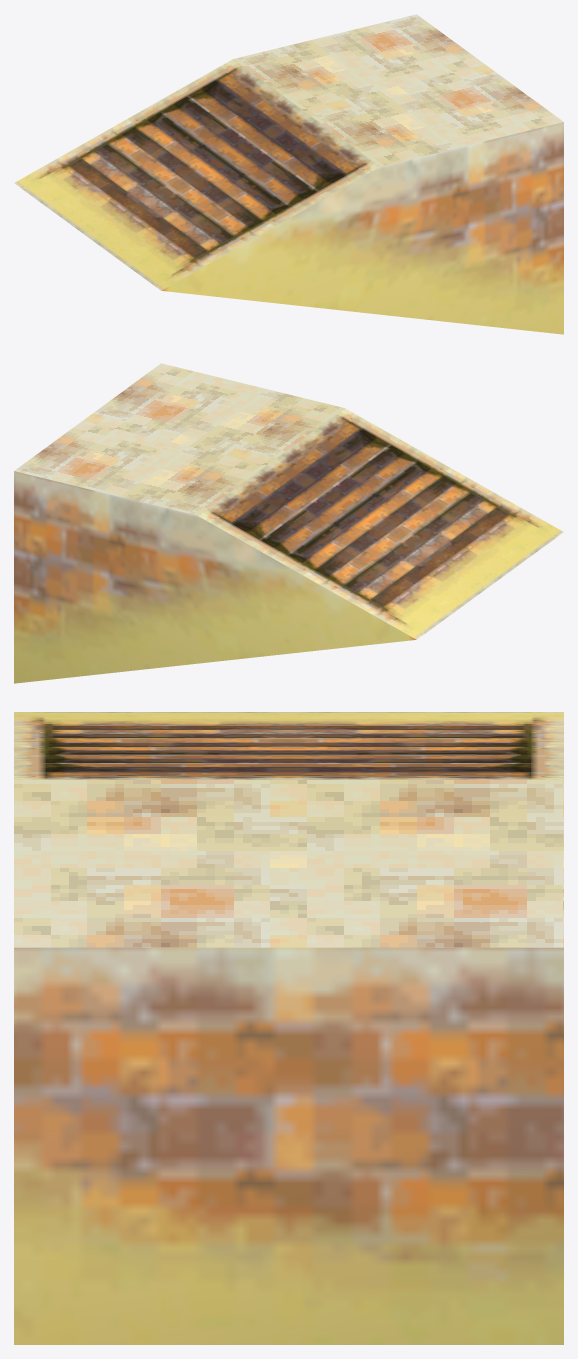
The model's file is mc_dodai.glb.
3 views of the same model, one above another, from view 1: azimuth 30°, elevation 25°; view 2: azimuth 150°, elevation 25°; view 3: azimuth 270°, elevation 25° (orthographic). The views are drawn at different scales.
Parts seen in each view (by area): view 1: mc_dodai; view 2: mc_dodai; view 3: mc_dodai.
Boxes of the visible parts, x1=… form: mc_dodai: x1=14, y1=14, x2=563, y2=334; mc_dodai: x1=14, y1=363, x2=563, y2=683; mc_dodai: x1=14, y1=712, x2=563, y2=1344.
Size of the model in its own units: 98.75 by 49.81 by 62.5.
3 materials, 3 textured.
